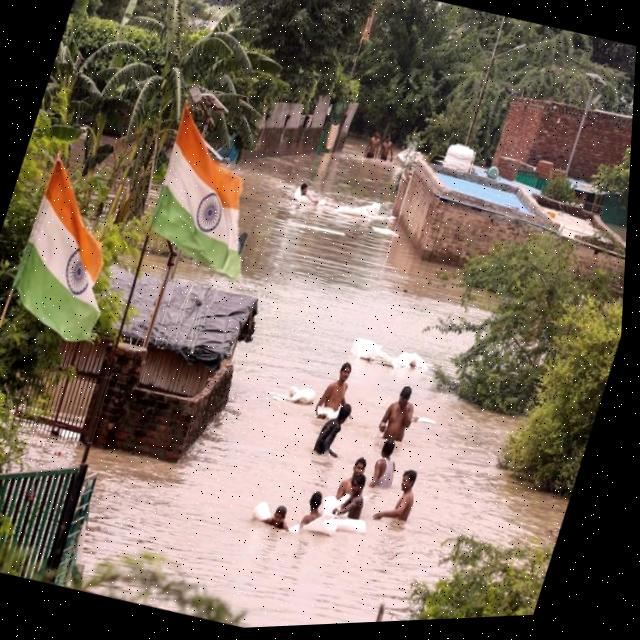civilian: (305, 391, 369, 471), (372, 372, 434, 447), (379, 460, 429, 536), (315, 355, 362, 422), (332, 469, 383, 530), (360, 431, 408, 493), (331, 448, 376, 505), (252, 494, 298, 541), (292, 483, 331, 533), (285, 175, 326, 211), (358, 122, 387, 159), (375, 127, 400, 164)
